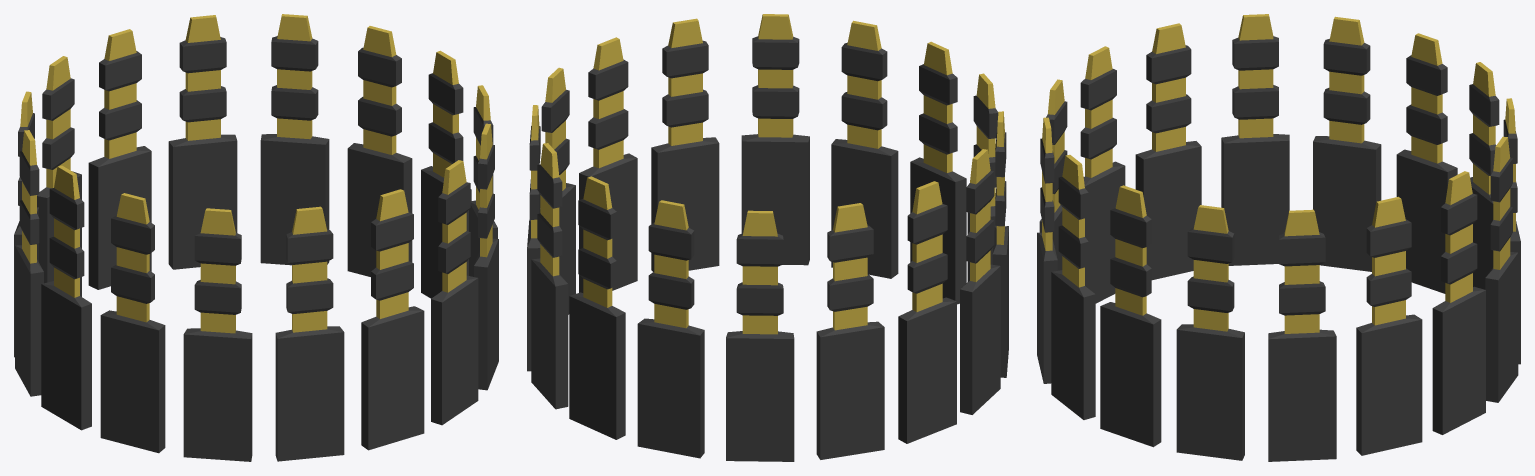
The model's file is LandingGear.fbx.
The picture shows the model from 3 angles, left to right: view 1: azimuth 30°, elevation 25°; view 2: azimuth 150°, elevation 25°; view 3: azimuth 270°, elevation 25°; orthographic projection.
Parts seen in each view (by area): view 1: LandingGear_LOD0; view 2: LandingGear_LOD0; view 3: LandingGear_LOD0.
Boxes of the visible parts, left/top/right/bottom form: LandingGear_LOD0: left=14, top=14, right=498, bottom=461; LandingGear_LOD0: left=527, top=14, right=1008, bottom=461; LandingGear_LOD0: left=1037, top=14, right=1520, bottom=461.
Size of what is drawn, in the model's own units: 178619 by 100296 by 178619.
